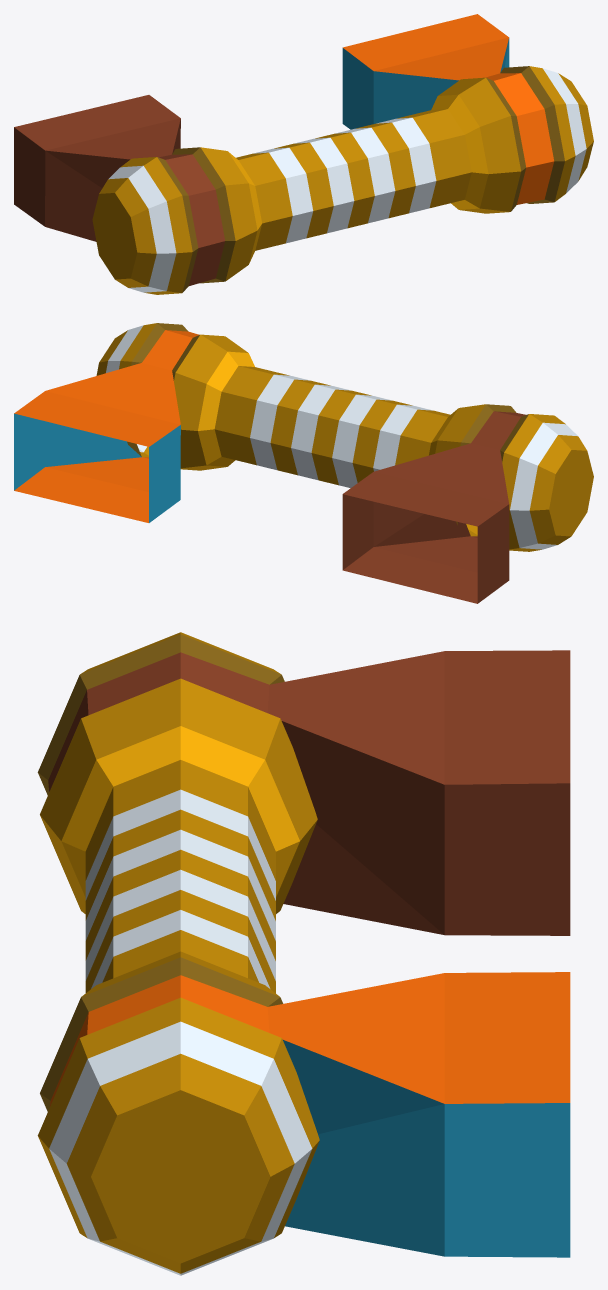
The model's file is EA_AD_GrabHandle_01a.glb.
3 views of the same model, one above another, from view 1: azimuth 30°, elevation 25°; view 2: azimuth 150°, elevation 25°; view 3: azimuth 270°, elevation 25° (orthographic). The views are drawn at different scales.
Visible parts, largest first — view 1: EA_AD_GrabHandle_01a; view 2: EA_AD_GrabHandle_01a; view 3: EA_AD_GrabHandle_01a.
Part boxes in pixels (<box>): EA_AD_GrabHandle_01a: <box>14,14,593,294</box>; EA_AD_GrabHandle_01a: <box>14,323,593,603</box>; EA_AD_GrabHandle_01a: <box>37,632,570,1275</box>.
Size of the model in its own units: 1.75 by 0.4963 by 0.8673.
Materials: 1 (1 with a texture image).
